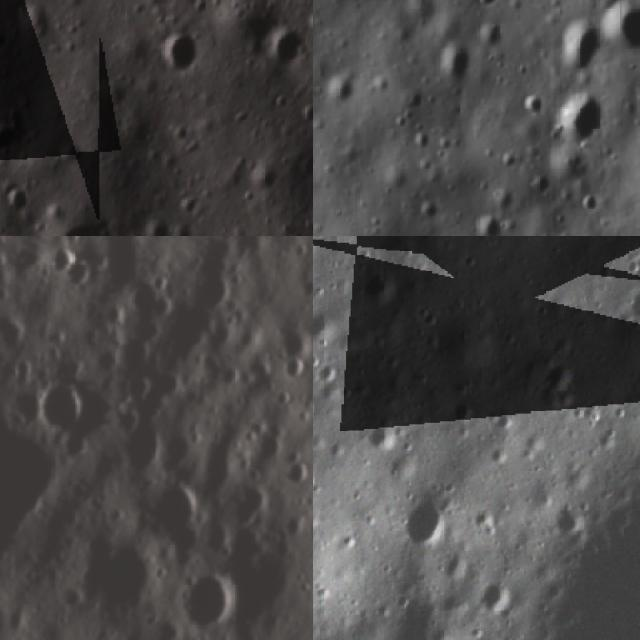crater: (80, 530, 174, 617), (170, 556, 254, 640), (138, 472, 224, 554), (544, 83, 608, 168), (430, 310, 496, 380), (34, 371, 96, 436), (397, 490, 457, 557), (544, 20, 608, 80), (129, 265, 187, 325), (119, 415, 172, 475), (42, 198, 117, 236), (188, 263, 240, 315), (261, 21, 310, 73), (533, 356, 582, 406), (153, 29, 204, 76), (432, 542, 478, 590), (0, 302, 39, 357), (603, 0, 640, 52), (358, 263, 399, 309), (480, 570, 520, 617), (313, 306, 349, 352), (386, 446, 426, 486), (276, 347, 313, 390), (550, 500, 588, 541), (281, 452, 313, 493), (0, 105, 24, 158), (483, 401, 518, 437), (445, 393, 479, 429), (516, 423, 550, 459), (153, 366, 186, 403), (367, 416, 399, 454), (68, 254, 102, 288), (470, 502, 504, 534), (49, 242, 76, 281), (623, 278, 640, 324), (624, 243, 640, 282), (316, 364, 341, 388), (612, 403, 629, 424), (0, 249, 13, 276), (302, 8, 313, 34), (490, 632, 521, 640)
